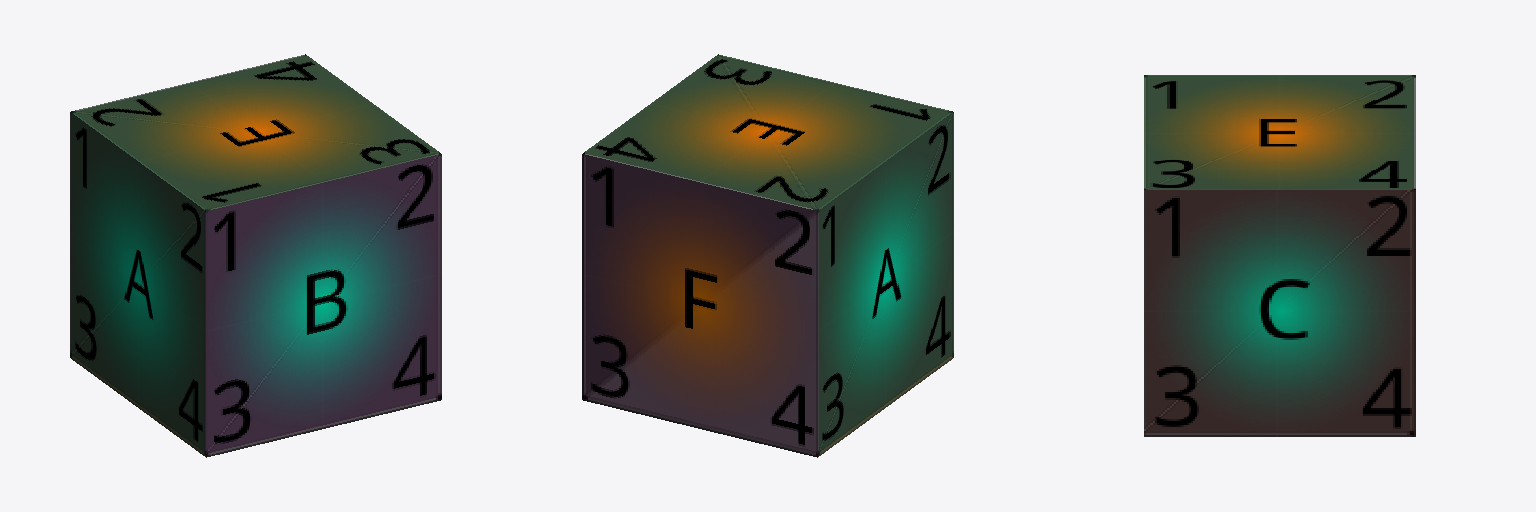
3 views of the same model, side by side, from view 1: azimuth 30°, elevation 25°; view 2: azimuth 150°, elevation 25°; view 3: azimuth 270°, elevation 25° (orthographic).
Visible parts, largest first — view 1: Cube; view 2: Cube; view 3: Cube.
Boxes of the visible parts, x1=… form: Cube: x1=70, y1=54, x2=441, y2=457; Cube: x1=582, y1=54, x2=953, y2=457; Cube: x1=1144, y1=75, x2=1415, y2=436.
Size of the model in its own units: 2 by 2 by 2.
1 materials, 1 textured.